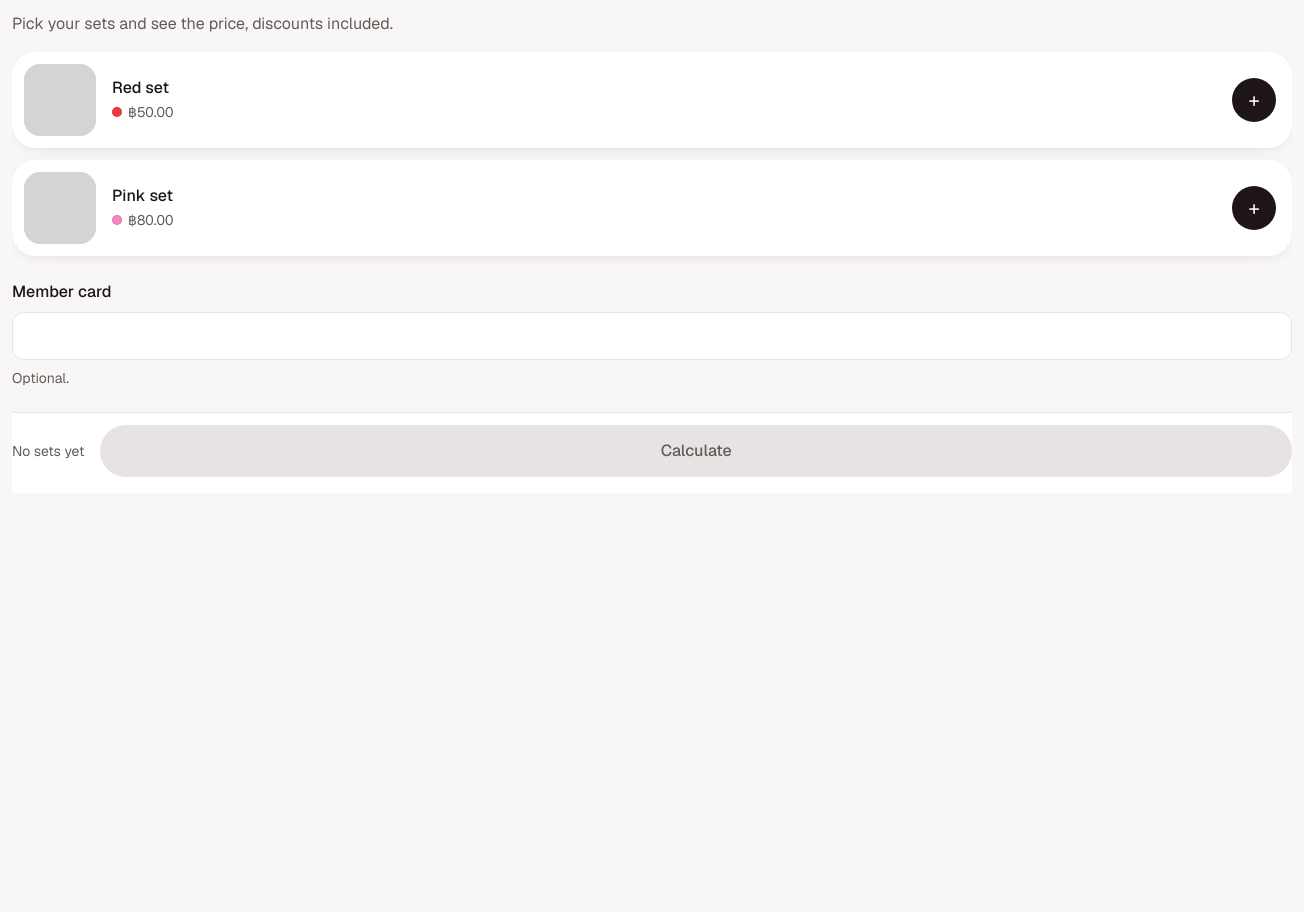
Scenario: Calculator › sends only chosen items and the trimmed card, then shows the result
Click the button named "Increase Pink set".
click(1254, 208)  # box [1232,186,1276,230]
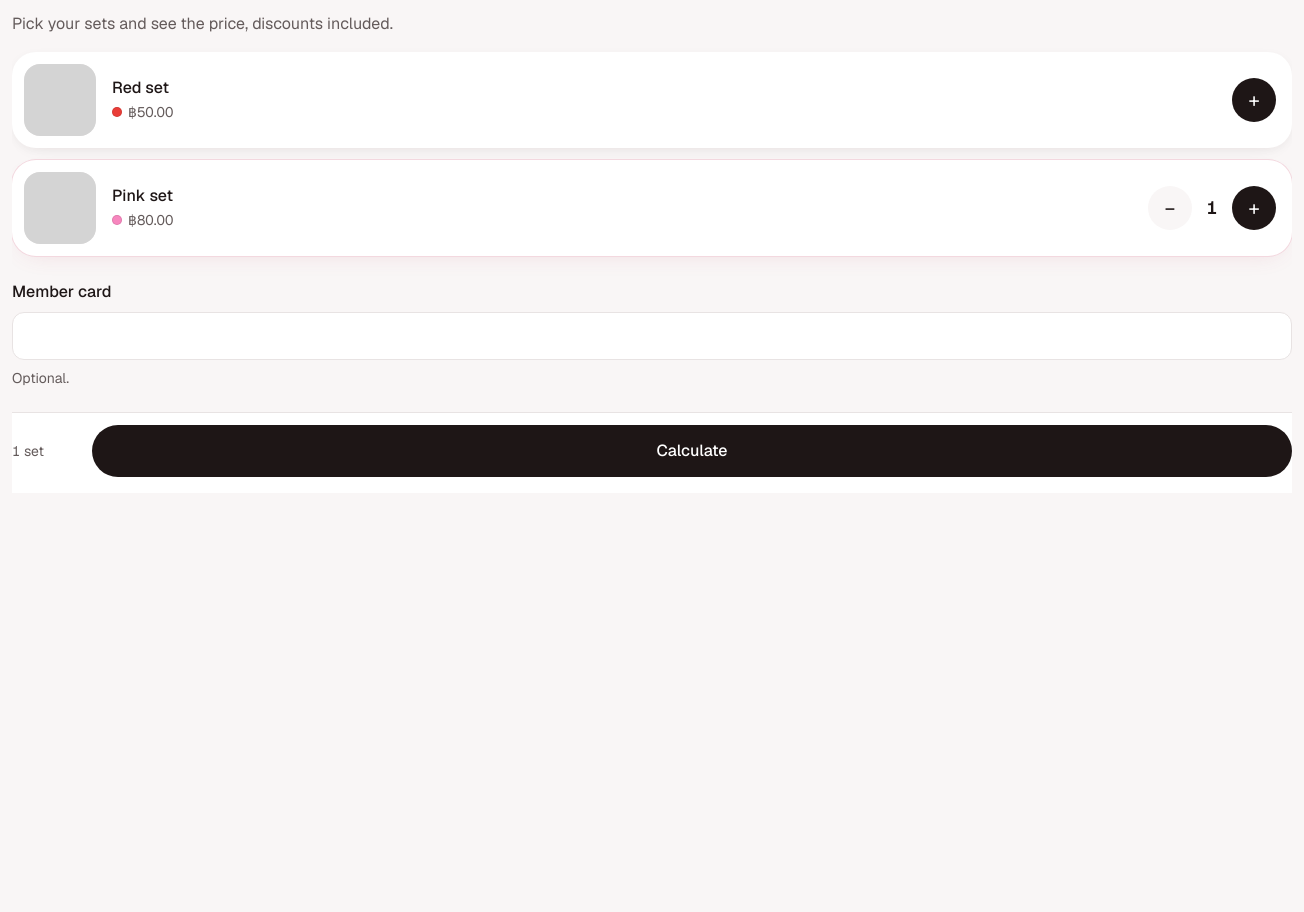
Click the button named "Increase Pink set".
click(1254, 208)  # box [1232,186,1276,230]
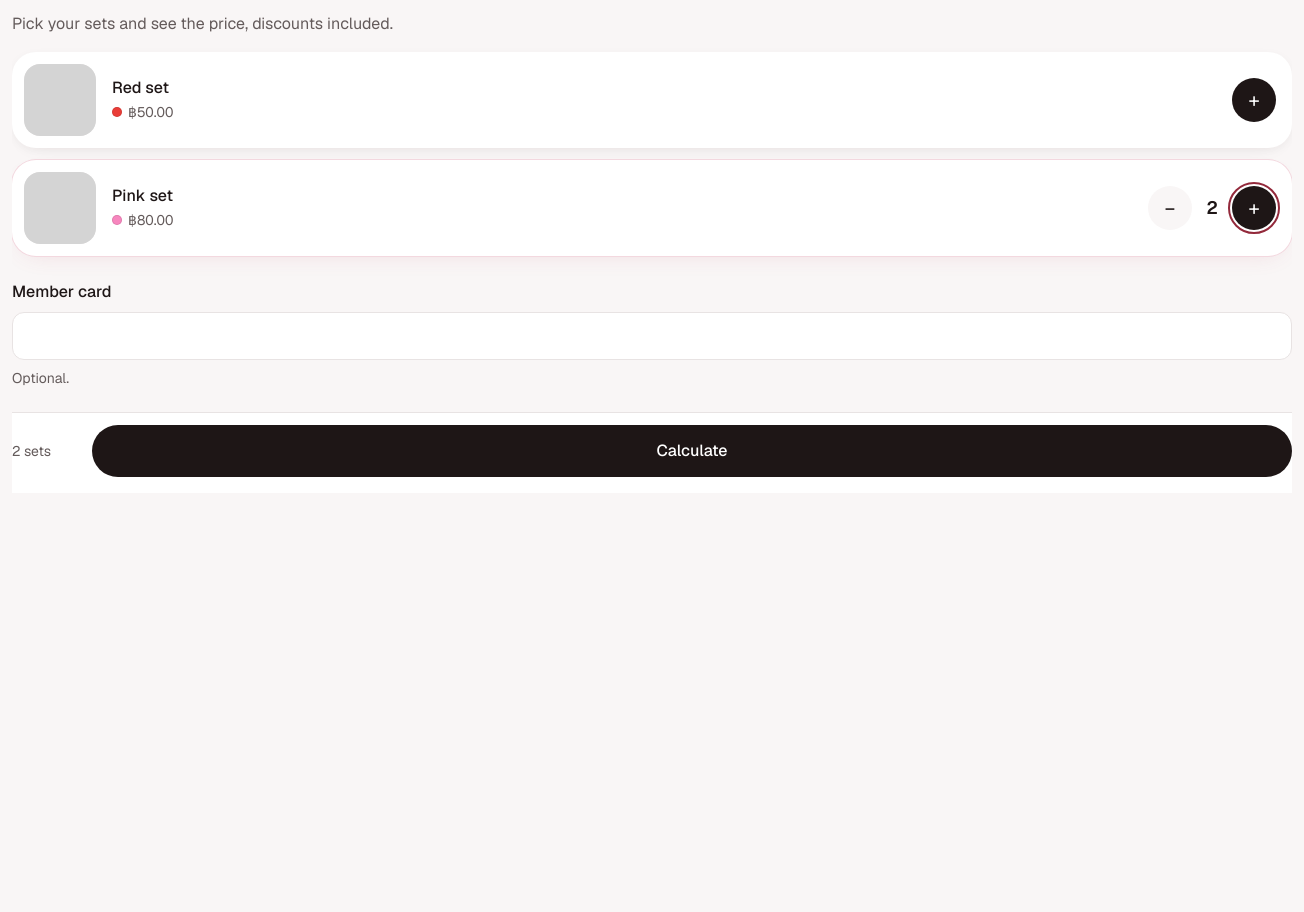
Type "  MEM0001 " into the field labelled "Member card".
click(652, 336); type("  MEM0001 ")  # box [12,312,1292,360]
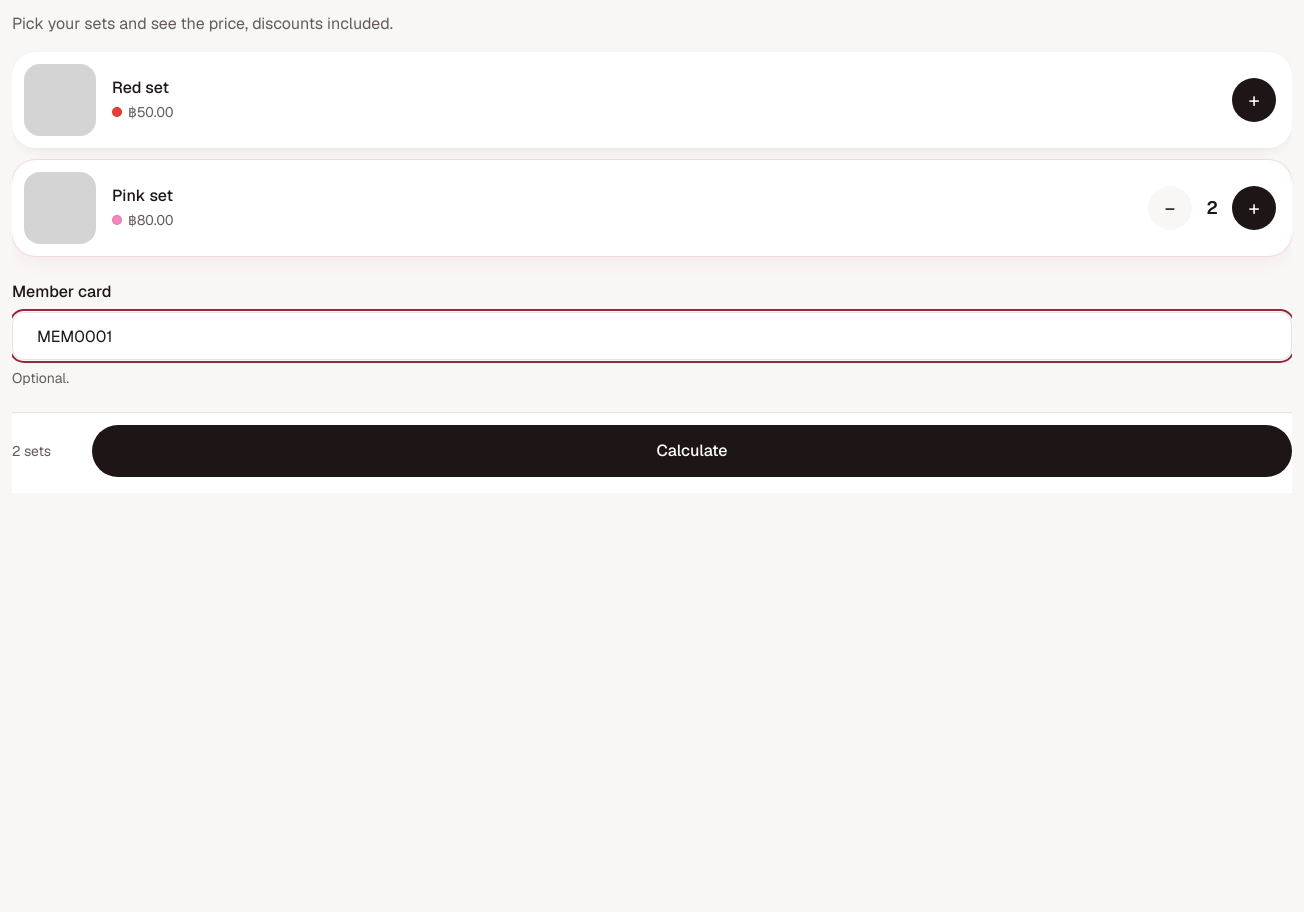
Click the button "Calculate".
click(692, 451)  # box [92,425,1292,477]
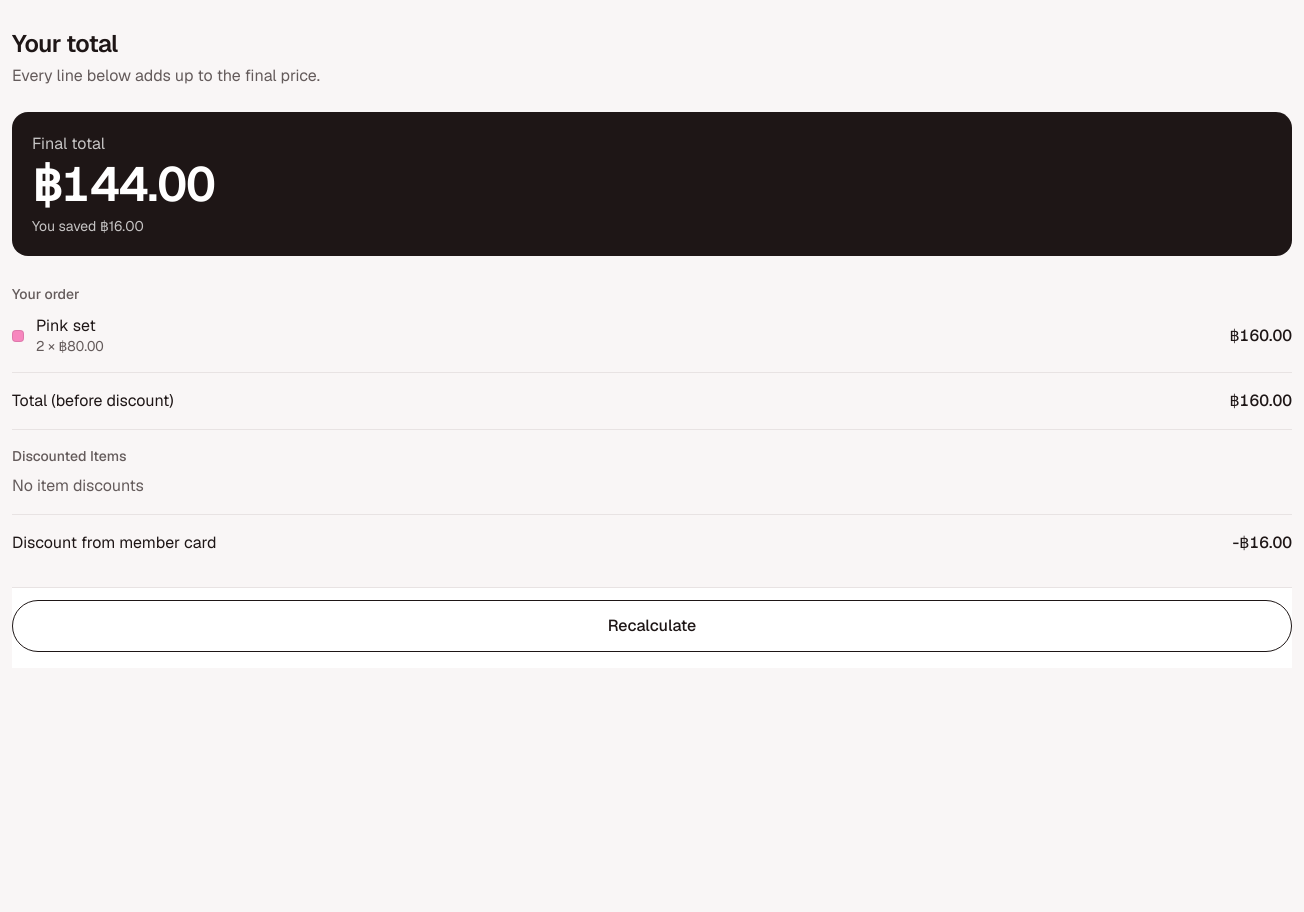
Expected: the text "Final total" is shown, [32,133,105,154]
Expected: the text "144.00" is shown, [32,153,215,215]
